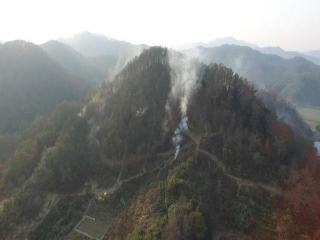smoke: (161, 42, 206, 162)
